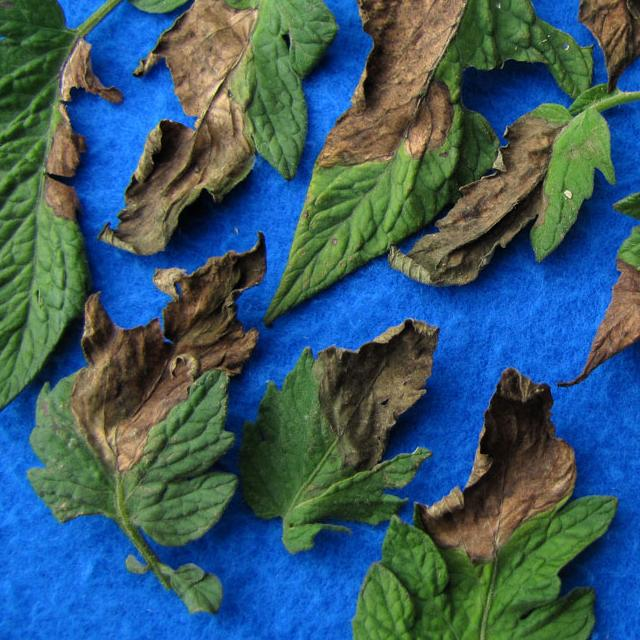Tomato leaf late blight: (27, 236, 277, 608), (330, 375, 613, 640), (282, 0, 524, 303), (209, 314, 472, 539), (106, 0, 329, 263), (385, 91, 640, 295), (0, 0, 114, 418), (584, 108, 640, 351), (635, 341, 640, 622)
